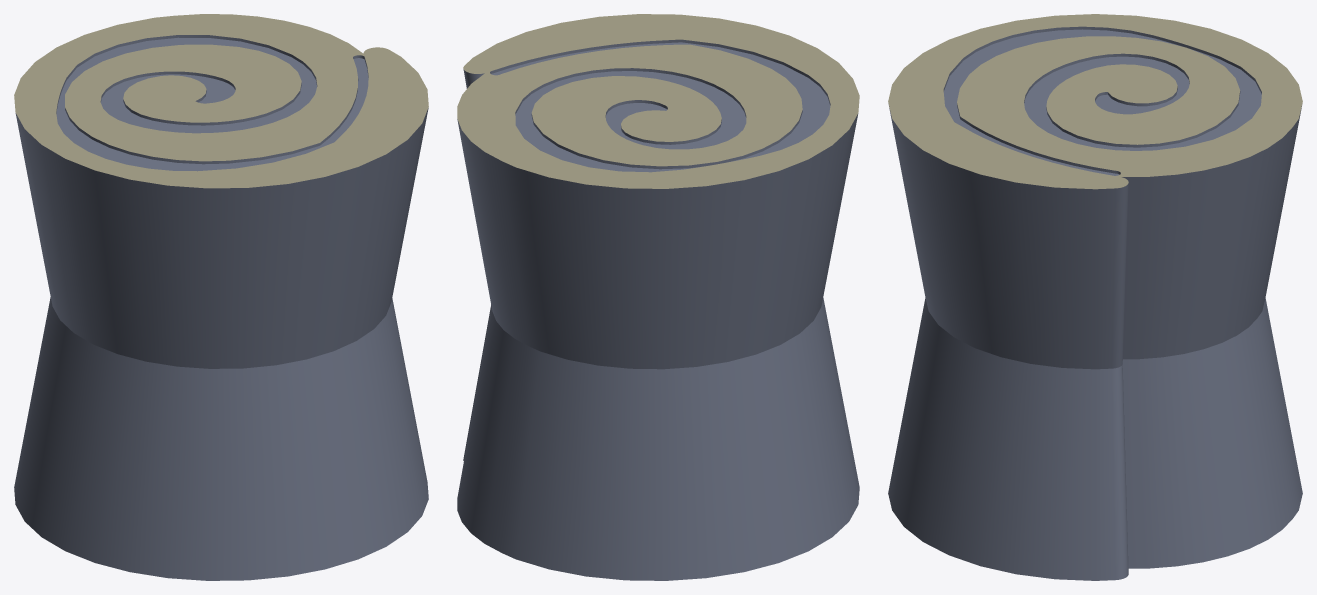
The model's file is Junk4.fbx.
3 views of the same model, side by side, from view 1: azimuth 30°, elevation 25°; view 2: azimuth 150°, elevation 25°; view 3: azimuth 270°, elevation 25° (orthographic).
Parts seen in each view (by area): view 1: Model; view 2: Model; view 3: Model.
Boxes of the visible parts, x1,y1,x2,y2 form: Model: (14,14,428,580); Model: (457,14,859,580); Model: (888,14,1302,580).
Bounding box in the file's own units: 48.73 × 50.77 × 48.73.
